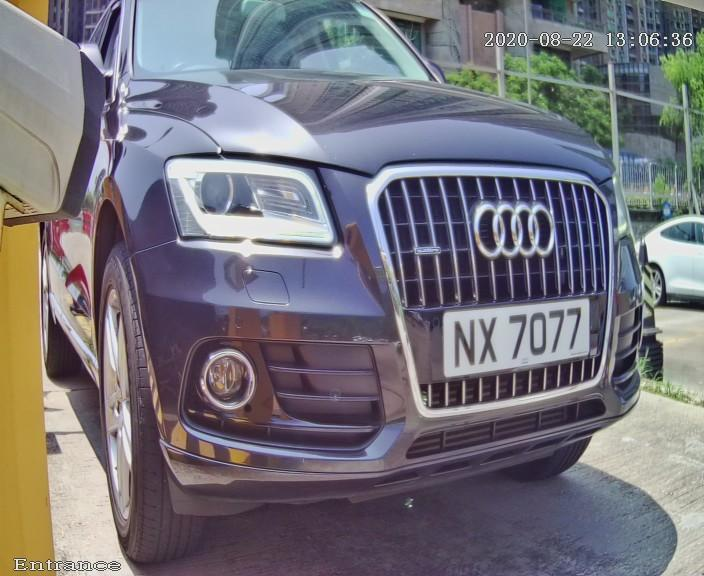Car: (32, 16, 667, 566)
License Plate: (408, 263, 618, 417)
